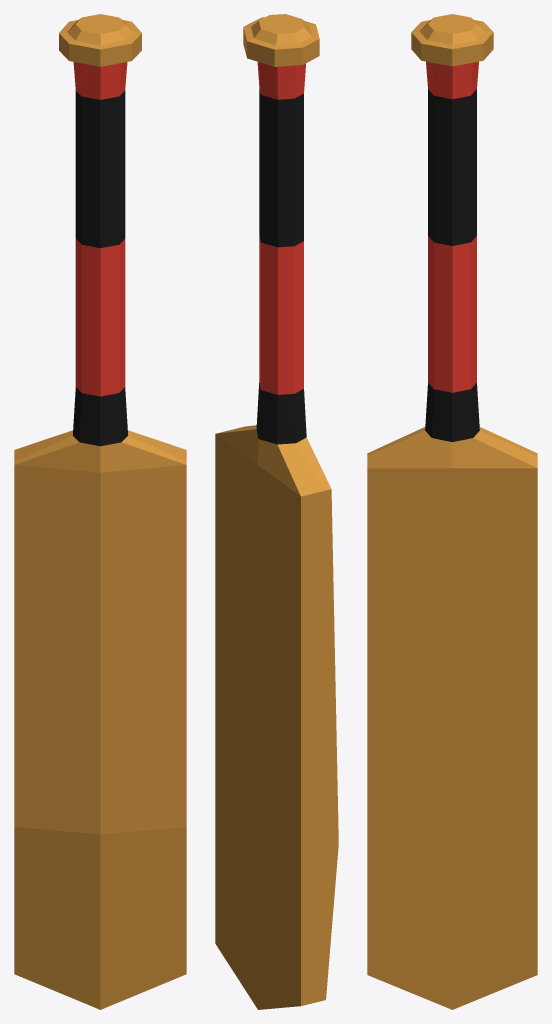
Rendered from Cricket bat.glb.
The picture shows the model from 3 angles, left to right: view 1: azimuth 90°, elevation 25°; view 2: azimuth 210°, elevation 25°; view 3: azimuth 270°, elevation 25°; orthographic projection.
Parts seen in each view (by area): view 1: Cube_Cube.027; view 2: Cube_Cube.027; view 3: Cube_Cube.027.
Part boxes in pixels (box(x1,y1,x2,y2)): Cube_Cube.027: box(14, 14, 186, 1009); Cube_Cube.027: box(215, 14, 338, 1009); Cube_Cube.027: box(367, 14, 537, 1009).
Size of the model in its own units: 1.12 by 15.24 by 2.42.
